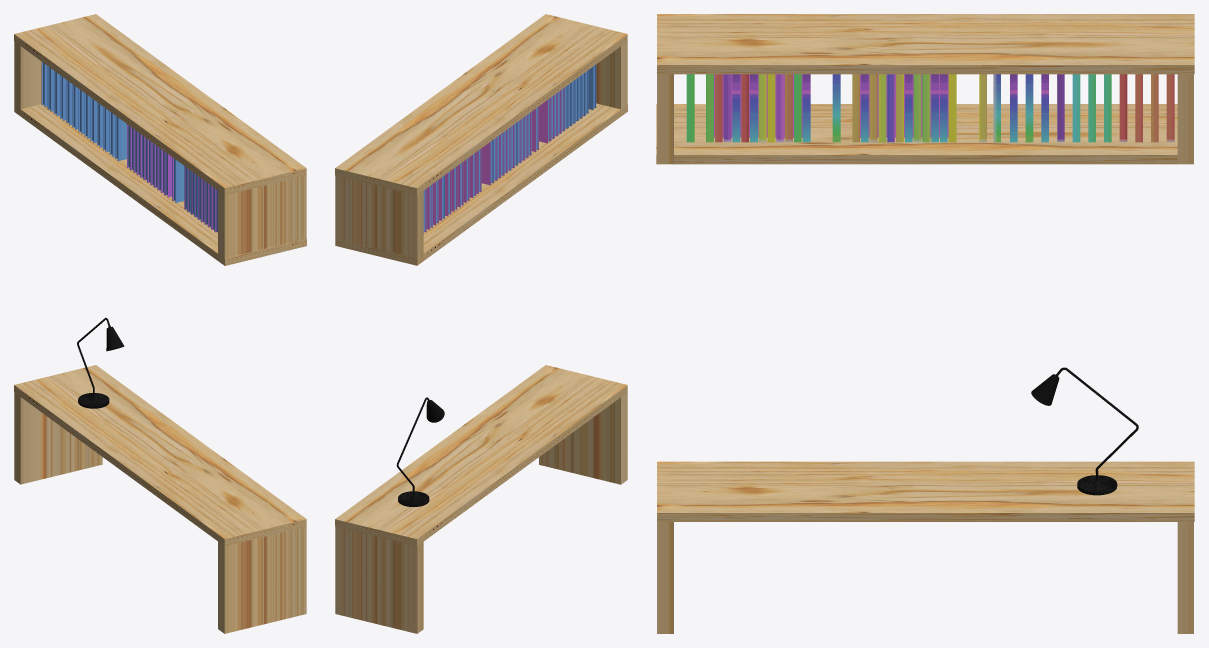
The model's file is mesa.obj.
3 views of the same model, side by side, from view 1: azimuth 30°, elevation 25°; view 2: azimuth 150°, elevation 25°; view 3: azimuth 270°, elevation 25° (orthographic). The views are drawn at different scales.
Parts seen in each view (by area): view 1: Cube.001_Cube.002, Cube, 3d-model, uploads_files_621521_Linea+light+conus; view 2: Cube.001_Cube.002, Cube, 3d-model, uploads_files_621521_Linea+light+conus; view 3: Cube.001_Cube.002, Cube, 3d-model, uploads_files_621521_Linea+light+conus.
Part boxes in pixels (x1,y1,x2,y2): Cube.001_Cube.002: [14, 14, 306, 265]; Cube: [14, 365, 306, 633]; 3d-model: [41, 62, 217, 232]; uploads_files_621521_Linea+light+conus: [77, 317, 124, 408]; Cube.001_Cube.002: [335, 14, 627, 265]; Cube: [335, 365, 627, 633]; 3d-model: [423, 64, 596, 233]; uploads_files_621521_Linea+light+conus: [396, 397, 444, 506]; Cube.001_Cube.002: [656, 14, 1194, 164]; Cube: [657, 461, 1194, 633]; 3d-model: [686, 74, 1174, 142]; uploads_files_621521_Linea+light+conus: [1031, 367, 1138, 495].
Bounding box in the file's own units: 2 × 10.38 × 8.9.
Materials: 4 (4 with a texture image).
